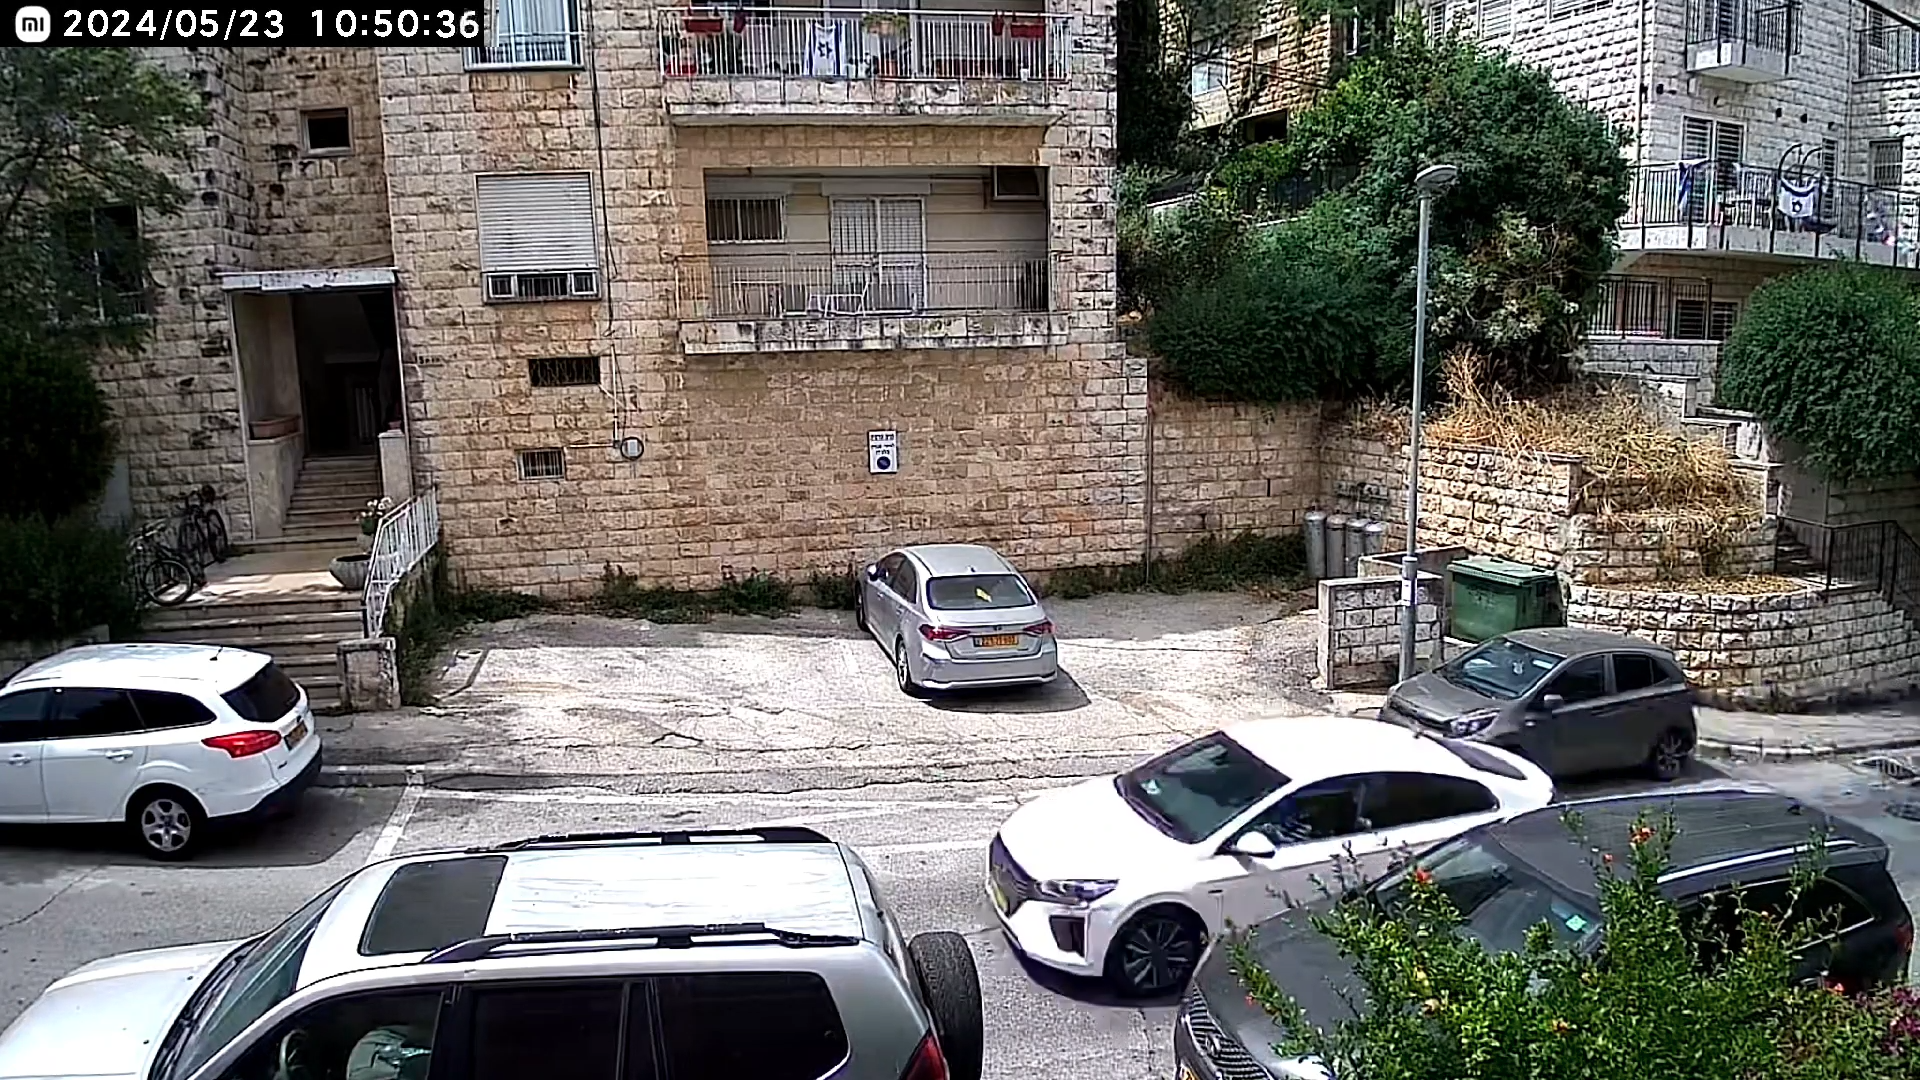moving_car: (479, 471, 825, 638)
